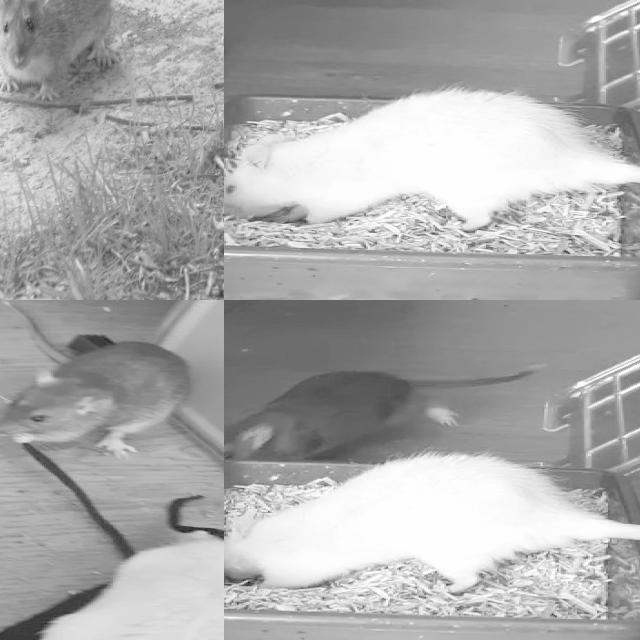rat: (224, 87, 603, 233), (224, 452, 577, 593), (0, 339, 199, 464), (224, 371, 455, 464), (28, 533, 224, 640), (0, 0, 112, 87)
